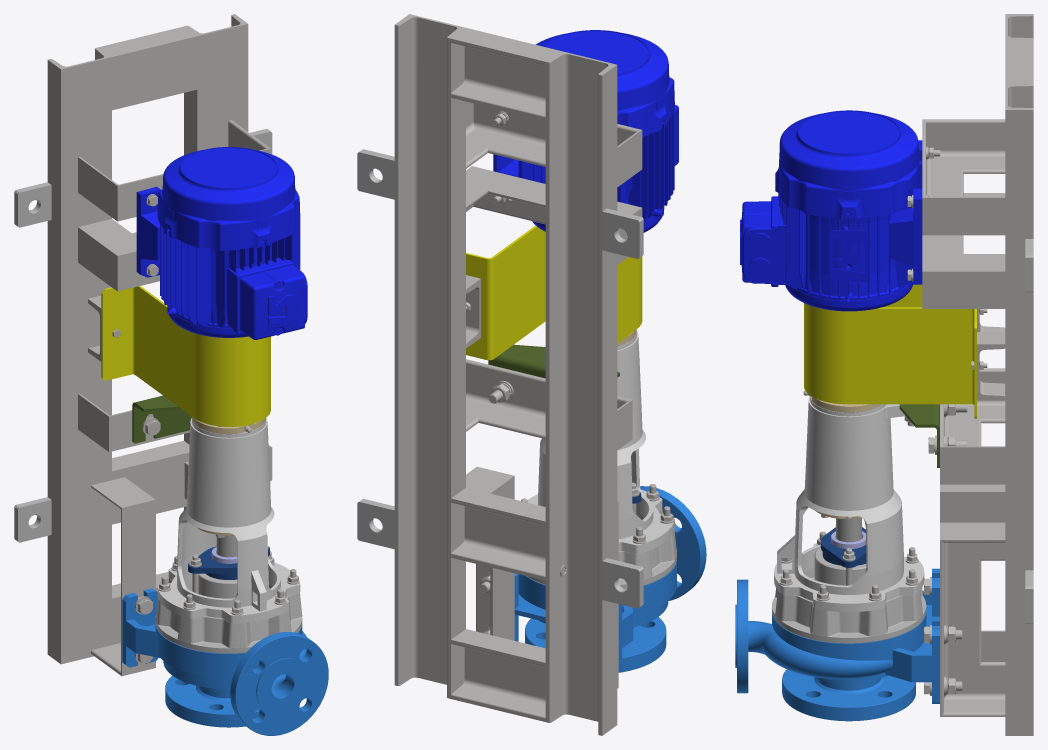
Rendered from Centrifugal_Pump_Assembly.fbx.
The picture shows the model from 3 angles, left to right: view 1: azimuth 30°, elevation 25°; view 2: azimuth 150°, elevation 25°; view 3: azimuth 270°, elevation 25°; orthographic projection. The views are drawn at different scales.
Parts seen in each view (by area): view 1: Solid1, Solid1.041, Solid1.026, Solid1.102, Solid1.140, Solid1.139, Solid1.001, Solid1.004, Solid1.034, Solid1.141, Solid1.003, Solid1.011 (+15 smaller); view 2: Solid1, Solid1.001, Solid1.102, Solid1.026, Solid1.140, Solid1.004, Solid1.002, Solid1.003, Solid1.041, Solid1.014, Solid1.139, Solid1.020 (+14 smaller); view 3: Solid1.001, Solid1.102, Solid1.041, Solid1.026, Solid1.140, Solid1.139, Solid1.034, Solid1.008, Solid1.018, Solid1.019, Solid1.021, Solid1.141 (+19 smaller).
Boxes of the visible parts, box(x1,y1,x2,y2) form: Solid1: box(47, 47, 111, 664); Solid1.041: box(157, 418, 300, 623); Solid1.026: box(122, 588, 328, 735); Solid1.102: box(101, 286, 270, 426); Solid1.140: box(157, 147, 300, 250); Solid1.139: box(136, 186, 300, 328); Solid1.001: box(184, 14, 248, 509); Solid1.004: box(99, 26, 197, 110); Solid1.034: box(155, 573, 302, 653); Solid1.141: box(233, 260, 307, 339); Solid1.003: box(112, 440, 189, 524); Solid1.011: box(121, 500, 155, 676); Solid1: box(545, 51, 617, 735); Solid1.001: box(394, 14, 465, 698); Solid1.102: box(466, 225, 642, 360); Solid1.026: box(514, 486, 706, 672); Solid1.140: box(535, 30, 674, 137); Solid1.004: box(451, 28, 559, 120); Solid1.002: box(451, 629, 545, 721); Solid1.003: box(451, 487, 545, 580); Solid1.041: box(527, 331, 674, 554); Solid1.014: box(466, 359, 631, 438); Solid1.139: box(493, 111, 674, 222); Solid1.020: box(473, 103, 641, 166); Solid1.001: box(1005, 84, 1033, 735); Solid1.102: box(804, 284, 976, 418); Solid1.041: box(774, 396, 924, 612); Solid1.026: box(735, 568, 939, 721); Solid1.140: box(775, 110, 919, 219); Solid1.139: box(778, 140, 922, 302); Solid1.034: box(772, 547, 926, 643); Solid1.008: box(940, 540, 981, 716); Solid1.018: box(922, 254, 1005, 308); Solid1.019: box(923, 119, 1005, 173); Solid1.021: box(922, 197, 1005, 235); Solid1.141: box(740, 196, 778, 286).
Bounding box in the file's own units: 38 × 86 × 36.7.
Materials: 16 (1 with a texture image).
